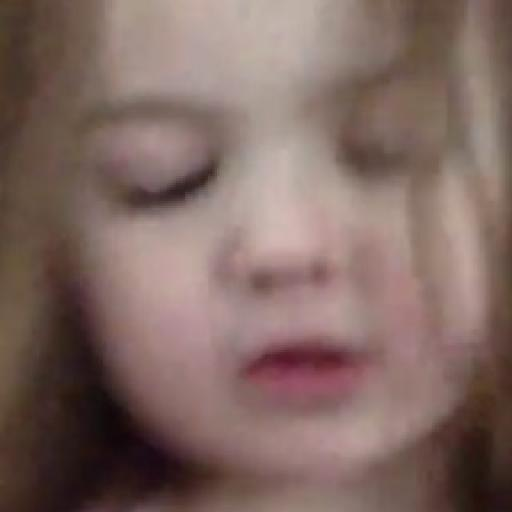Autism: (27, 12, 512, 492)
